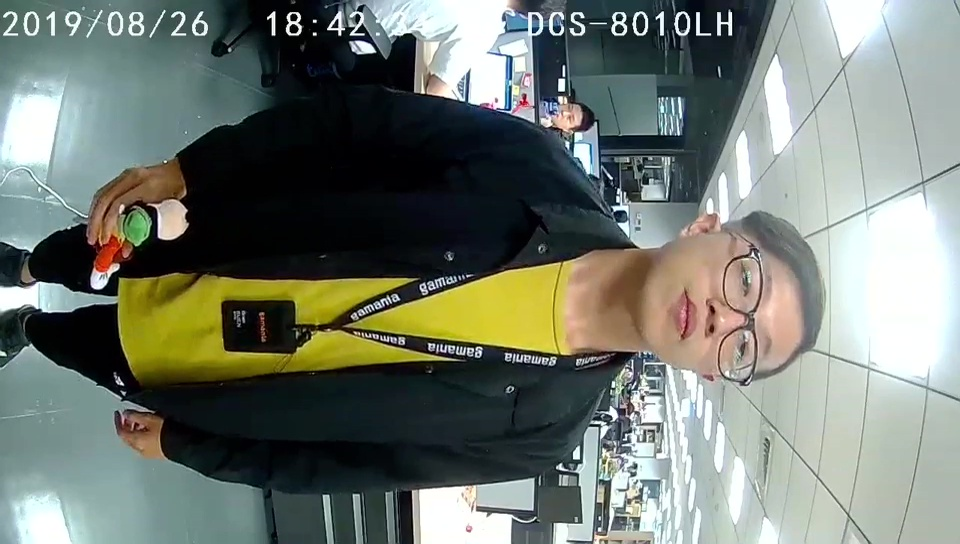goofy: (90, 198, 190, 289)
